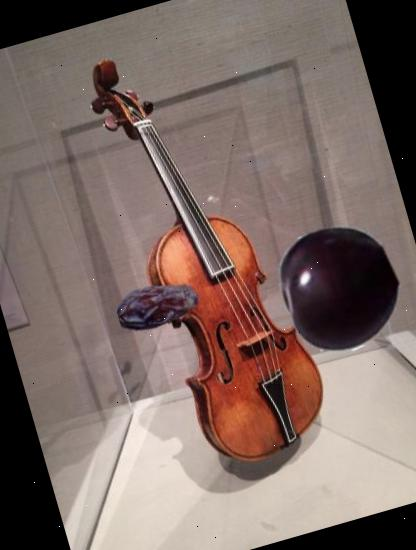Cherry: (261, 209, 416, 365)
Dates: (106, 253, 210, 357)
